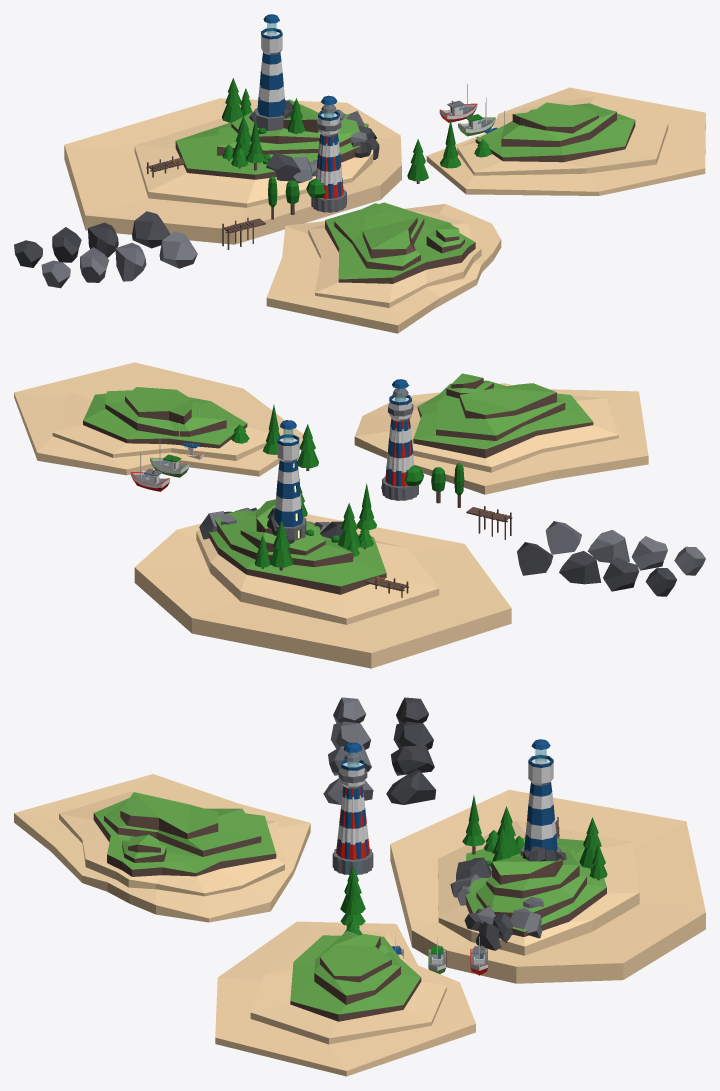
The model's file is LIGHTHOUSE2.fbx.
3 views of the same model, one above another, from view 1: azimuth 30°, elevation 25°; view 2: azimuth 150°, elevation 25°; view 3: azimuth 270°, elevation 25° (orthographic). The views are drawn at different scales.
Parts seen in each view (by area): view 1: ile2, ILE2, ILE, phare bleu, phare bleu.002, PHARE ROUGE, caillou1, caillou1.002, caillou2, caillou3.005, caillou3, caillou2.004 (+9 smaller); view 2: ile2, ILE2, ILE, phare bleu, phare bleu.002, PHARE ROUGE, caillou2.004, caillou2, caillou1.002, caillou1, caillou3, caillou3.005 (+8 smaller); view 3: ile2, ILE, ILE2, phare bleu, phare bleu.002, PHARE ROUGE, caillou1.002, caillou2.004, caillou3.005, caillou3, caillou4.006, caillou4 (+5 smaller).
Boxes of the visible parts, <box> form: ile2: <box>64,98,401,244</box>; ILE2: <box>266,202,501,333</box>; ILE: <box>426,87,705,195</box>; phare bleu: <box>254,14,285,130</box>; phare bleu.002: <box>311,95,346,212</box>; PHARE ROUGE: <box>313,104,346,212</box>; caillou1: <box>159,231,197,268</box>; caillou1.002: <box>132,211,169,248</box>; caillou2: <box>115,243,146,281</box>; caillou3.005: <box>52,227,81,262</box>; caillou3: <box>80,247,109,282</box>; caillou2.004: <box>88,222,118,257</box>; ile2: <box>134,499,511,668</box>; ILE2: <box>354,373,648,494</box>; ILE: <box>14,362,303,476</box>; phare bleu: <box>274,420,306,541</box>; phare bleu.002: <box>382,379,418,500</box>; PHARE ROUGE: <box>382,388,417,500</box>; caillou2.004: <box>559,551,601,584</box>; caillou2: <box>587,530,629,562</box>; caillou1.002: <box>517,542,553,575</box>; caillou1: <box>545,521,581,554</box>; caillou3: <box>631,536,667,570</box>; caillou3.005: <box>603,557,639,591</box>; ile2: <box>390,789,705,983</box>; ILE: <box>215,921,475,1076</box>; ILE2: <box>14,774,310,922</box>; phare bleu: <box>520,739,561,855</box>; phare bleu.002: <box>334,742,371,874</box>; PHARE ROUGE: <box>332,752,373,874</box>; caillou1.002: <box>386,769,436,804</box>; caillou2.004: <box>391,745,434,775</box>; caillou3.005: <box>393,721,433,749</box>; caillou3: <box>330,721,370,749</box>; caillou4.006: <box>396,697,428,723</box>; caillou4: <box>333,697,365,723</box>.
Size of the model in its own units: 4151 by 932 by 3291.
